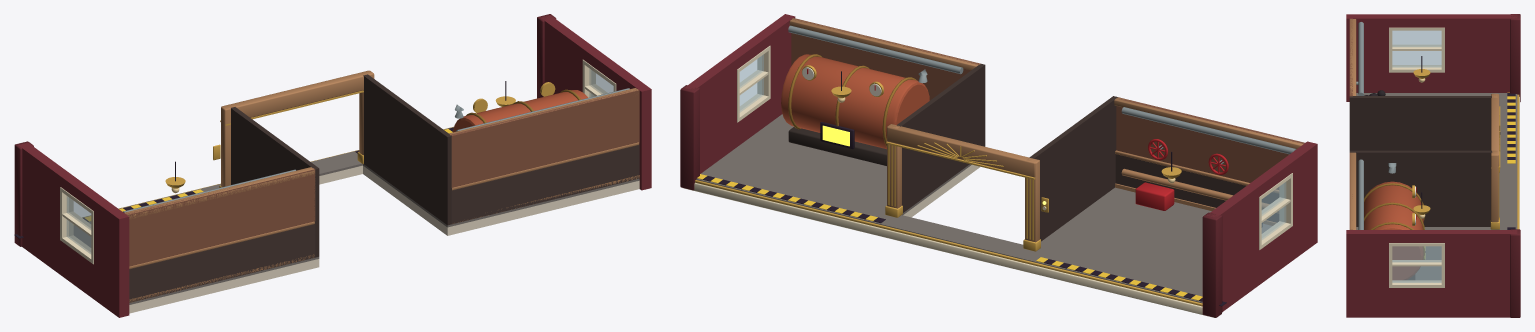
The model's file is Floor_Boiler.fbx.
3 renders of one model, left to right at view 1: azimuth 30°, elevation 25°; view 2: azimuth 150°, elevation 25°; view 3: azimuth 270°, elevation 25°, orthographic. The views are drawn at different scales.
Parts seen in each view (by area): view 1: Shell; view 2: Shell, Glow; view 3: Shell.
Part boxes in pixels (bbox=[...]): Shell: bbox=[14, 14, 651, 317]; Shell: bbox=[680, 14, 1317, 317]; Glow: bbox=[822, 97, 1175, 183]; Shell: bbox=[1346, 14, 1520, 317].
Bounding box in the file's own units: 16 × 2.92 × 5.3.
